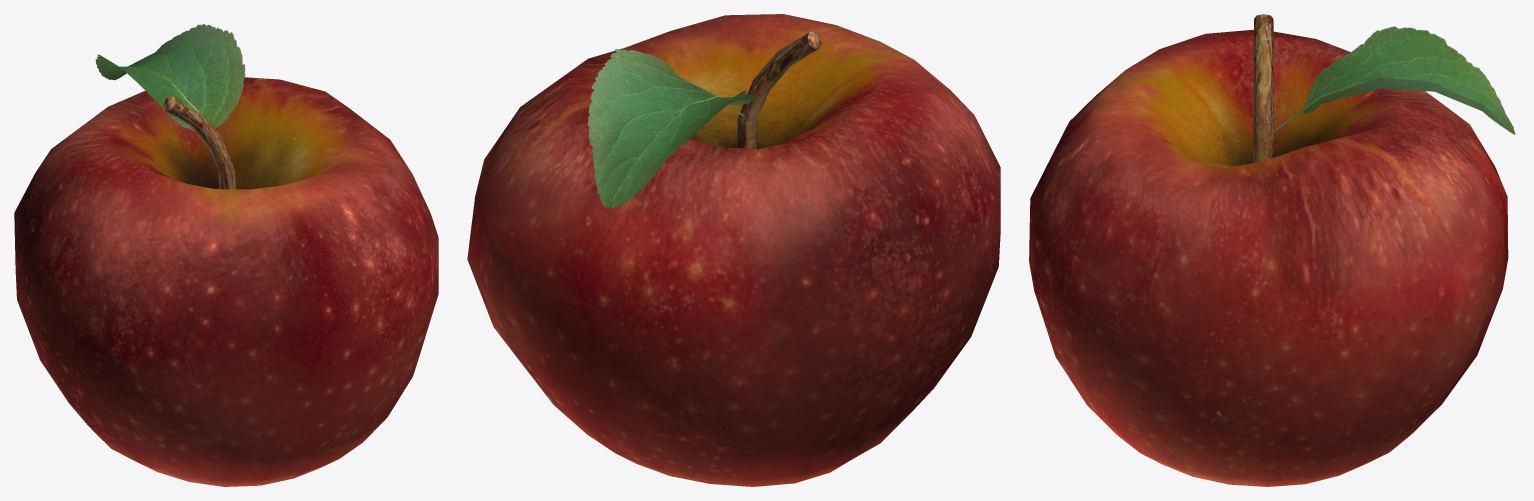
File: tao.glb
The picture shows the model from 3 angles, left to right: view 1: azimuth 30°, elevation 25°; view 2: azimuth 150°, elevation 25°; view 3: azimuth 270°, elevation 25°; orthographic projection. The views are drawn at different scales.
Visible parts, largest first — view 1: Apple, Leaf; view 2: Apple, Leaf; view 3: Apple, Leaf.
Boxes of the visible parts, x1,y1,x2,y2 form: Apple: (14, 77, 438, 486); Leaf: (95, 24, 245, 130); Apple: (467, 14, 1000, 486); Leaf: (587, 49, 754, 208); Apple: (1029, 14, 1508, 486); Leaf: (1273, 26, 1515, 134).
Bounding box in the file's own units: 1.58 × 1.44 × 1.63.
Materials: 2 (2 with a texture image).
